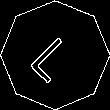L_NE: (26, 26, 84, 84)
